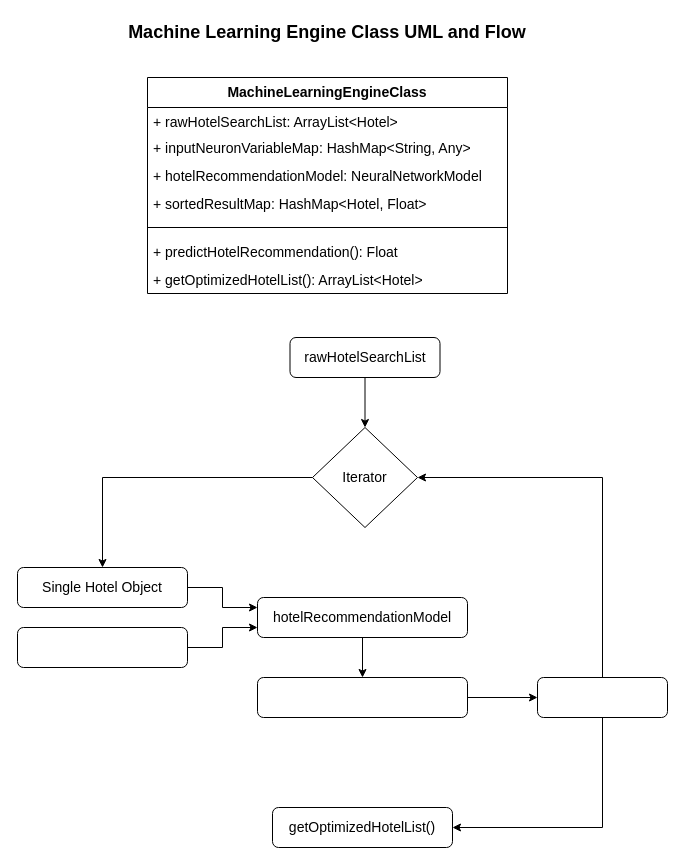
Image size: 685x865. Some labels were removed from this diagram. The box of each missing label's shape, as (x1, y1, x2, y2) in pixels:
inputNeuronVariableMap: (16, 626, 188, 668)
predictHotelRecommendation(): (256, 676, 468, 718)
sortedResultMap: (536, 676, 668, 718)
